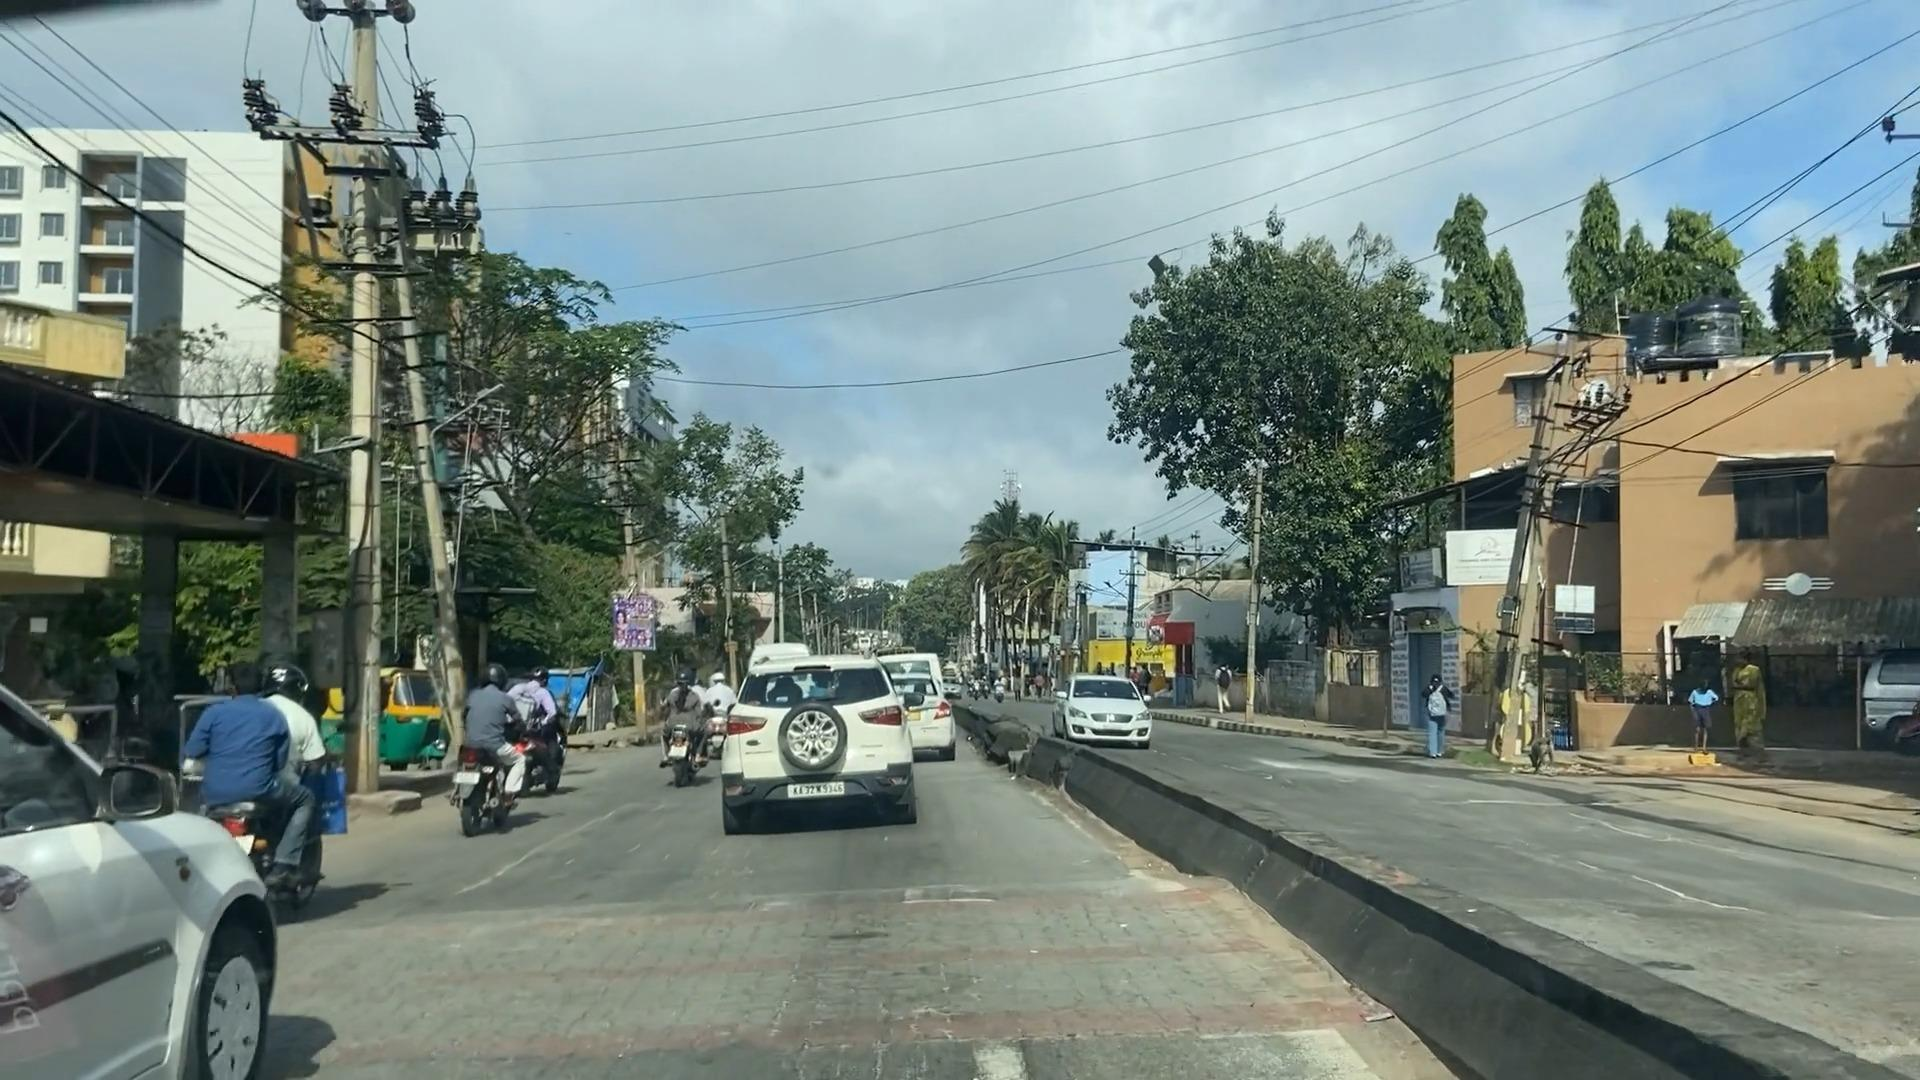LMV: (727, 665, 911, 829), (193, 670, 323, 893), (448, 678, 521, 818), (661, 673, 715, 782)
RoadDamages: (448, 799, 646, 897)
SpeedBump: (298, 902, 1410, 1080)
